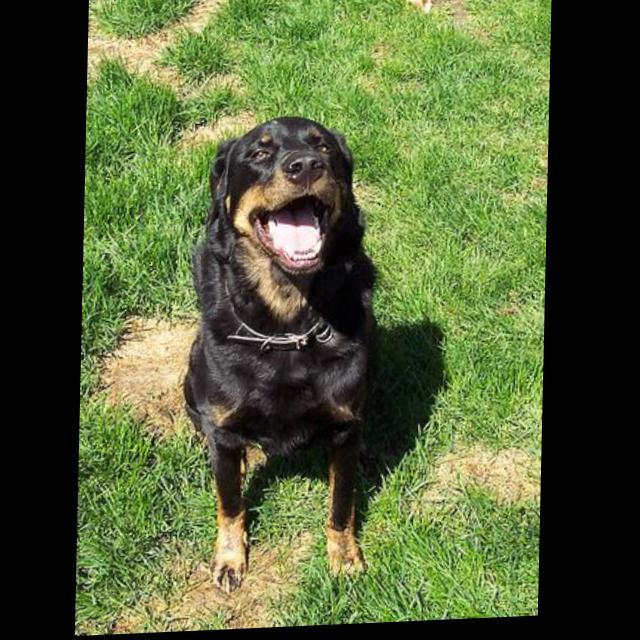rottweiler: (178, 115, 383, 599)
